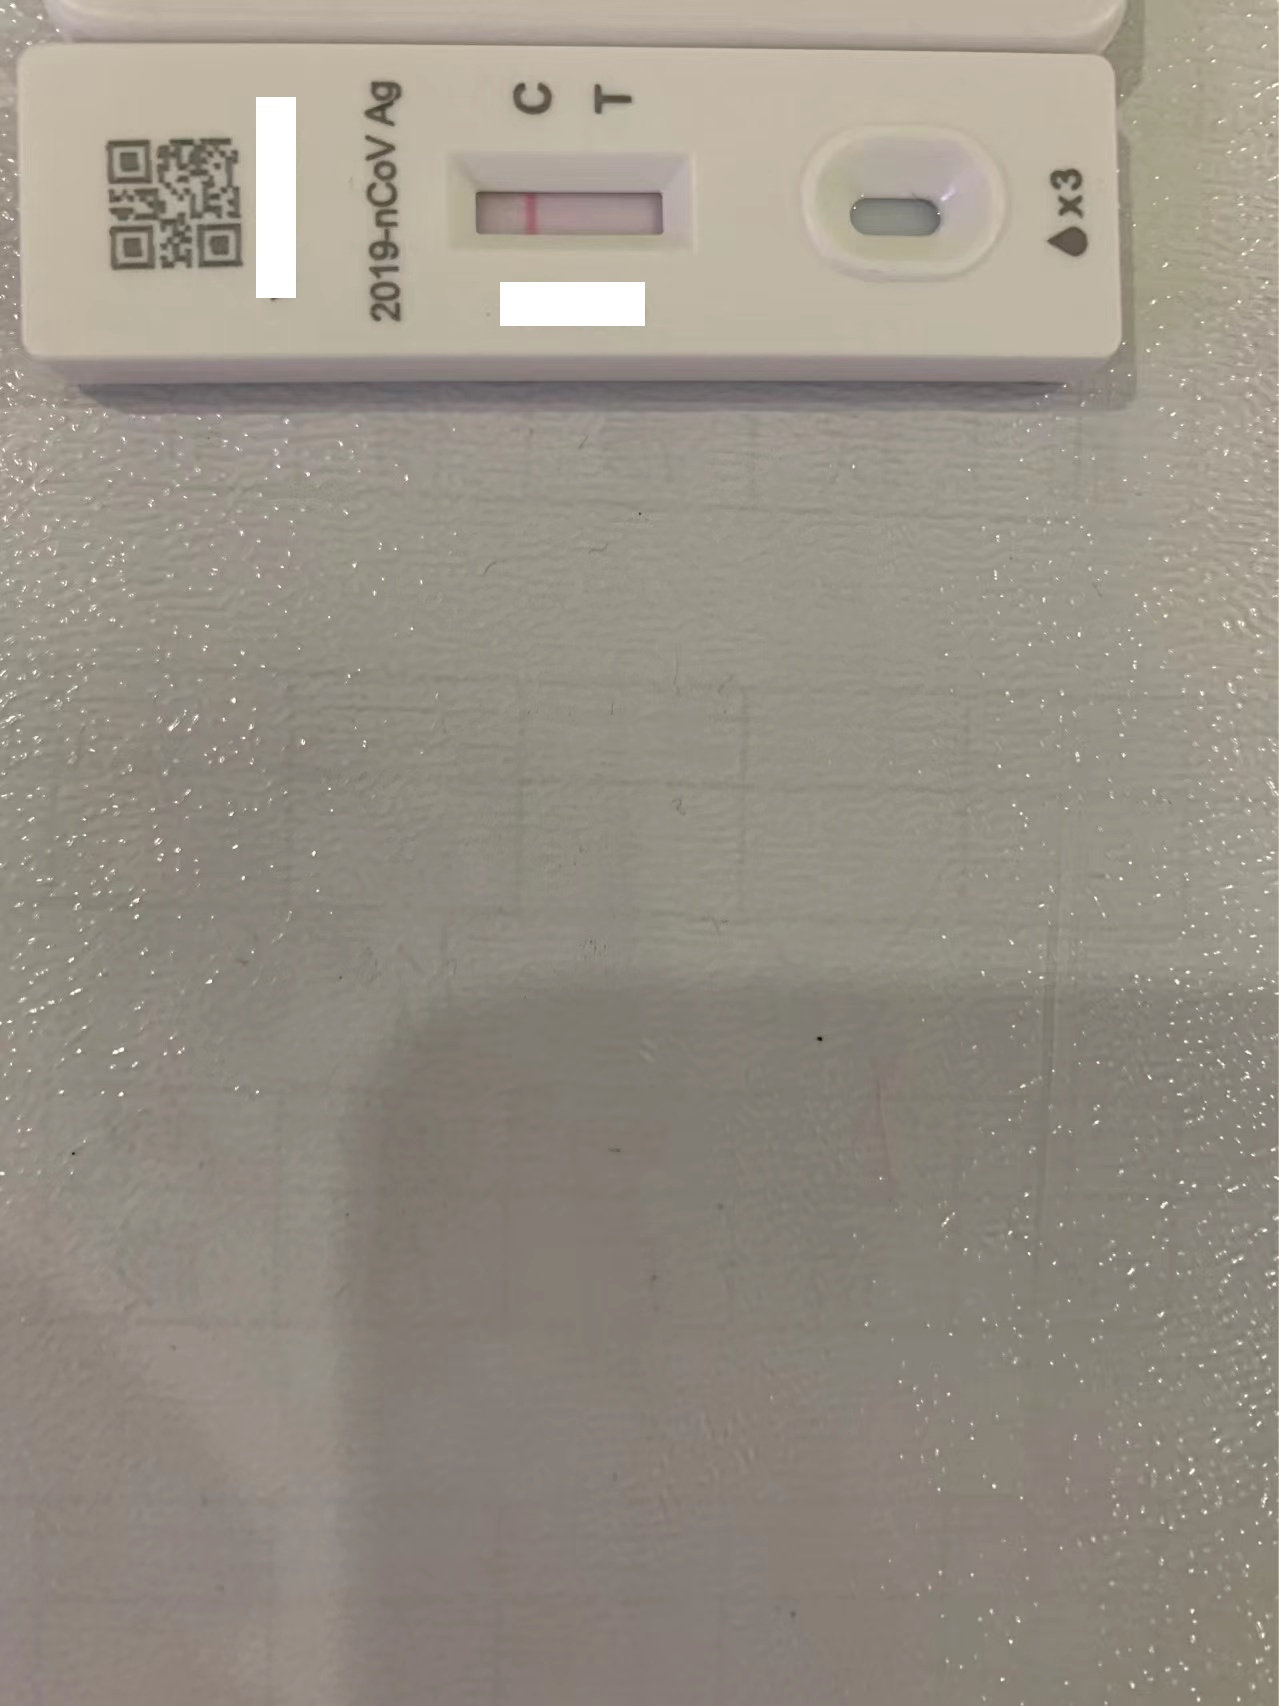negative: (435, 154, 687, 254)
